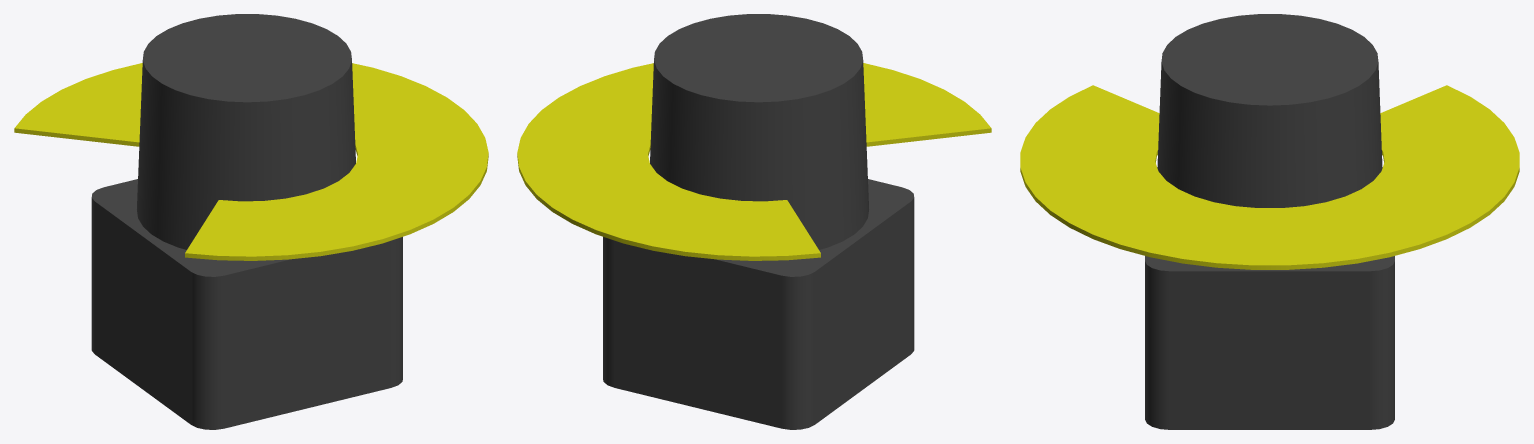
File: wheels_urg.dae
The picture shows the model from 3 angles, left to right: view 1: azimuth 30°, elevation 25°; view 2: azimuth 150°, elevation 25°; view 3: azimuth 270°, elevation 25°; orthographic projection. The views are drawn at different scales.
Parts seen in each view (by area): view 1: ソリッド1, ソリッド1_ncl1_1; view 2: ソリッド1, ソリッド1_ncl1_1; view 3: ソリッド1, ソリッド1_ncl1_1.
Boxes of the visible parts, left/top/right/bottom form: ソリッド1: left=91, top=14, right=402, bottom=429; ソリッド1_ncl1_1: left=14, top=63, right=488, bottom=260; ソリッド1: left=603, top=14, right=914, bottom=429; ソリッド1_ncl1_1: left=517, top=63, right=991, bottom=260; ソリッド1: left=1145, top=14, right=1394, bottom=429; ソリッド1_ncl1_1: left=1020, top=85, right=1519, bottom=269.
Bounding box in the file's own units: 0.0852 × 0.0997 × 0.07.
